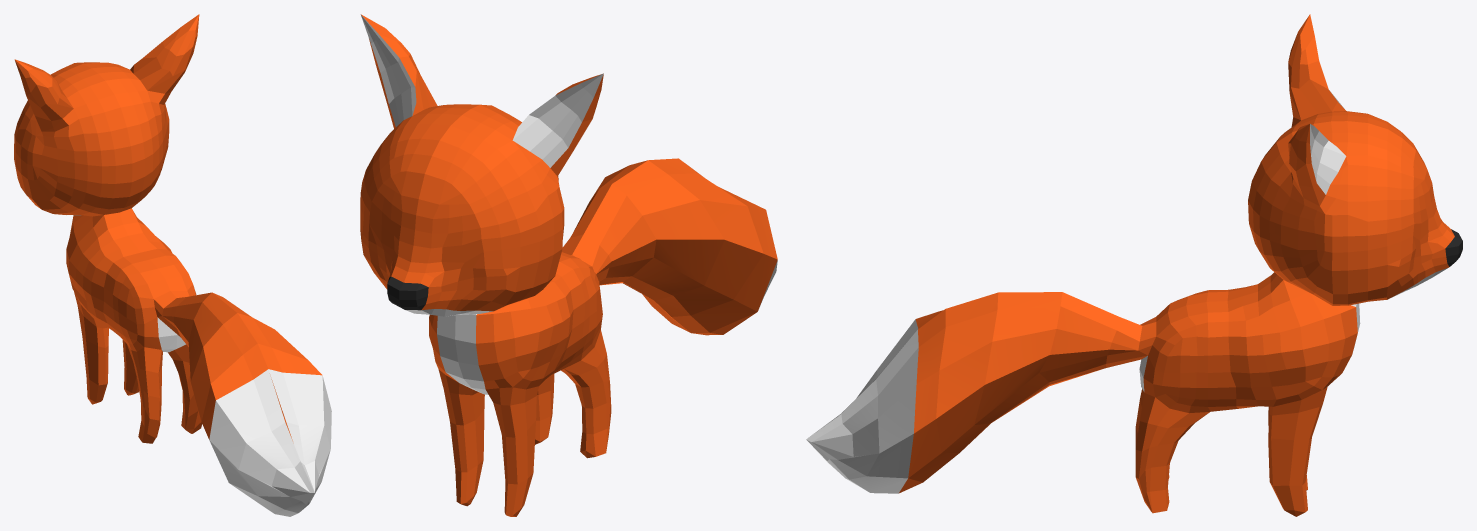
File: fox.glb
The picture shows the model from 3 angles, left to right: view 1: azimuth 30°, elevation 25°; view 2: azimuth 150°, elevation 25°; view 3: azimuth 270°, elevation 25°; orthographic projection. The views are drawn at different scales.
Parts seen in each view (by area): view 1: Object_5; view 2: Object_5; view 3: Object_5.
Boxes of the visible parts, <box> form: Object_5: <box>14,14,331,516</box>; Object_5: <box>360,14,777,516</box>; Object_5: <box>806,14,1462,516</box>.
Bounding box in the file's own units: 1.15 × 2.13 × 2.9.
